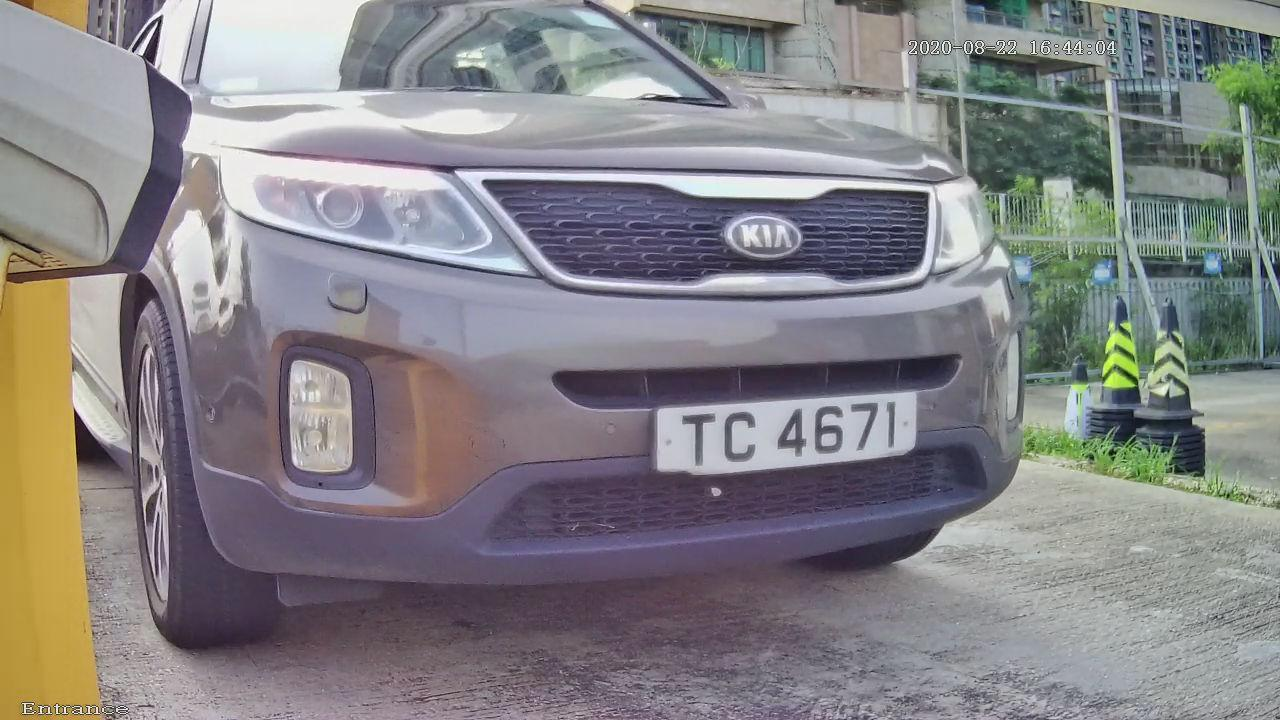Car: (41, 17, 1109, 631)
License Plate: (619, 366, 951, 496)
